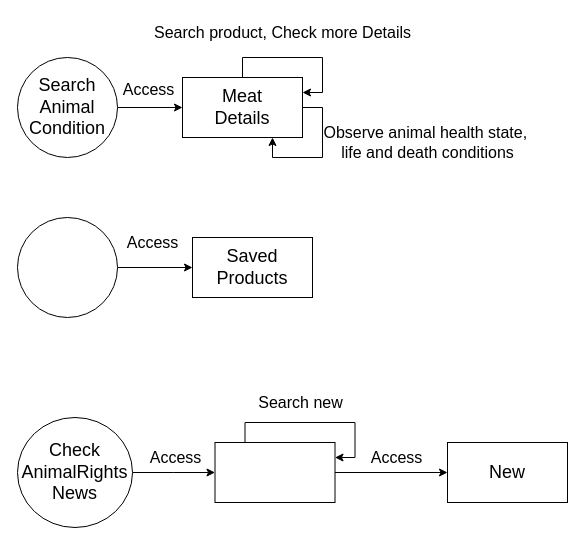
Image size: 585x545. Some labels were removed from this diagram. The shapes that lost their labels are listed below. From the top down, each one's centre as x and y in pixels, then its label:
At (67,267): "Check Saved Products".
At (274,472): "News Page".
